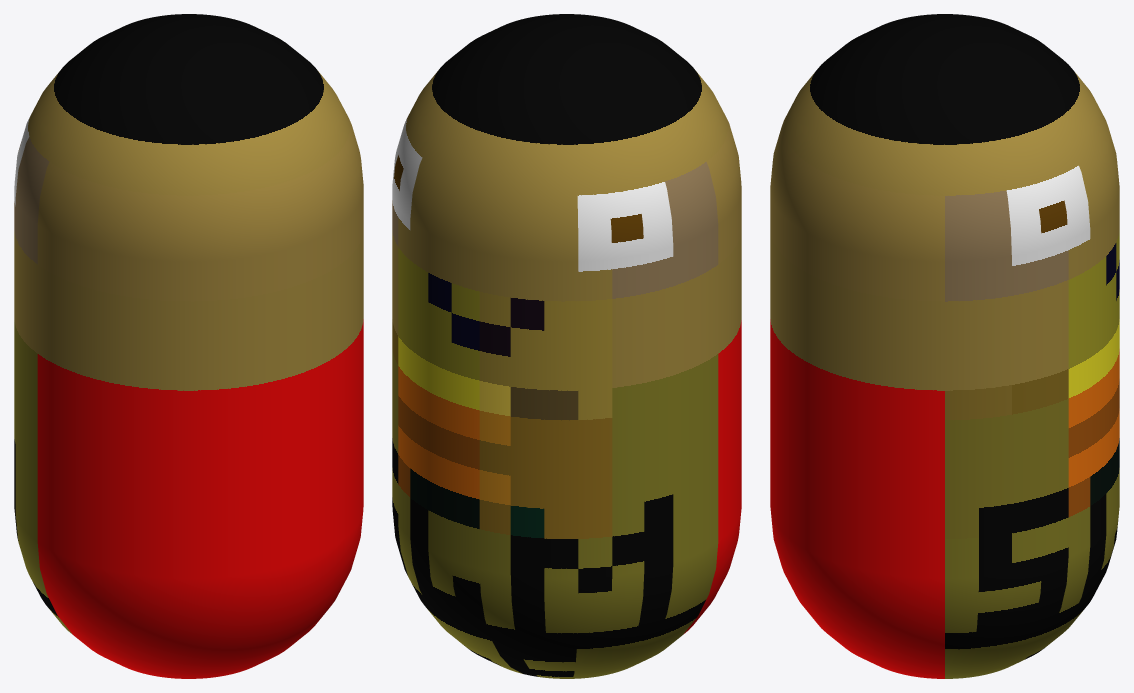
File: MeshInstance3D.glb
The picture shows the model from 3 angles, left to right: view 1: azimuth 30°, elevation 25°; view 2: azimuth 150°, elevation 25°; view 3: azimuth 270°, elevation 25°; orthographic projection.
Parts seen in each view (by area): view 1: MeshInstance3D; view 2: MeshInstance3D; view 3: MeshInstance3D.
Boxes of the visible parts, x1=… form: MeshInstance3D: x1=14, y1=14, x2=363, y2=678; MeshInstance3D: x1=392, y1=14, x2=741, y2=678; MeshInstance3D: x1=770, y1=14, x2=1119, y2=678.
Bounding box in the file's own units: 1 × 2 × 1.
1 material, 1 textured.
